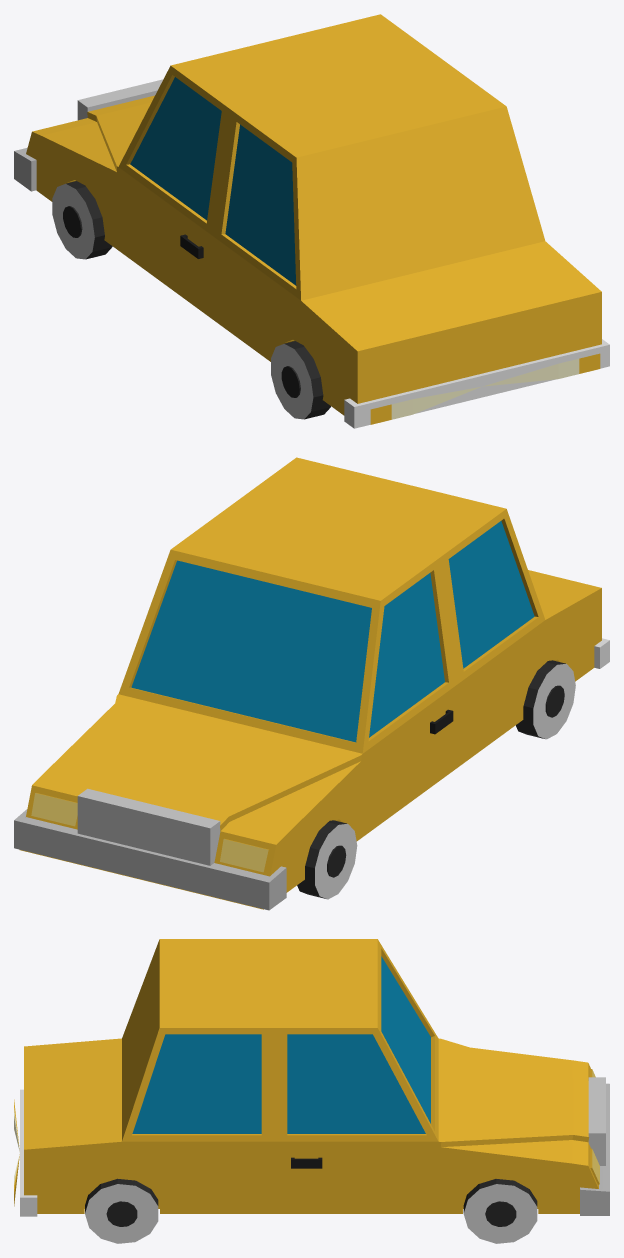
The model's file is car_1.gltf.
3 views of the same model, one above another, from view 1: azimuth 30°, elevation 25°; view 2: azimuth 150°, elevation 25°; view 3: azimuth 270°, elevation 25° (orthographic). The views are drawn at different scales.
Visible parts, largest first — view 1: Macchina2.001_Multicolor_0; view 2: Macchina2.001_Multicolor_0; view 3: Macchina2.001_Multicolor_0.
Part boxes in pixels (x1,y1,x2,y2): Macchina2.001_Multicolor_0: (14,14,609,428); Macchina2.001_Multicolor_0: (14,457,609,910); Macchina2.001_Multicolor_0: (14,939,609,1243).
Size of the model in its own units: 1.71 by 1.45 by 3.83.
Materials: 1 (1 with a texture image).
